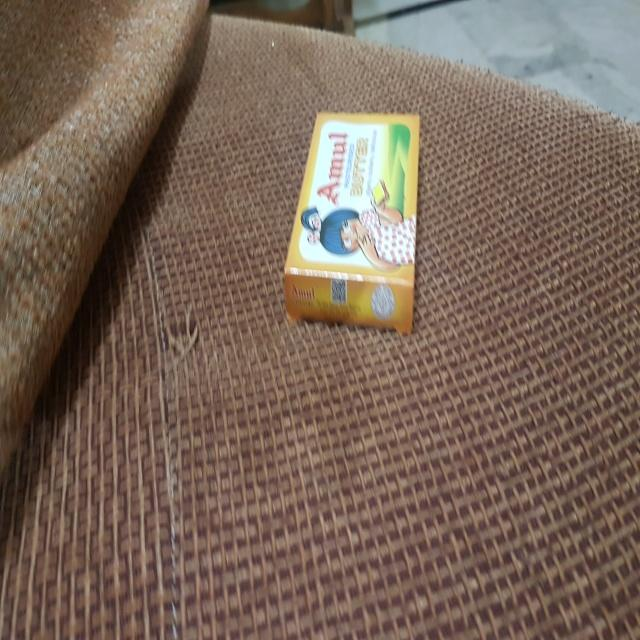butter: (282, 110, 423, 328)
